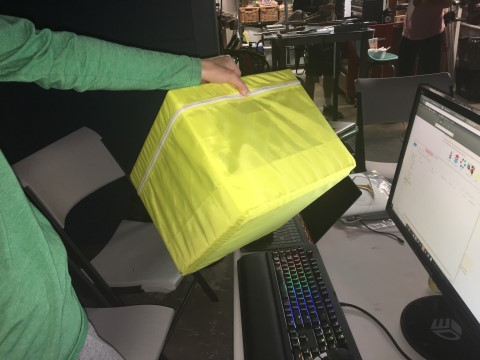cube: (129, 69, 356, 277)
